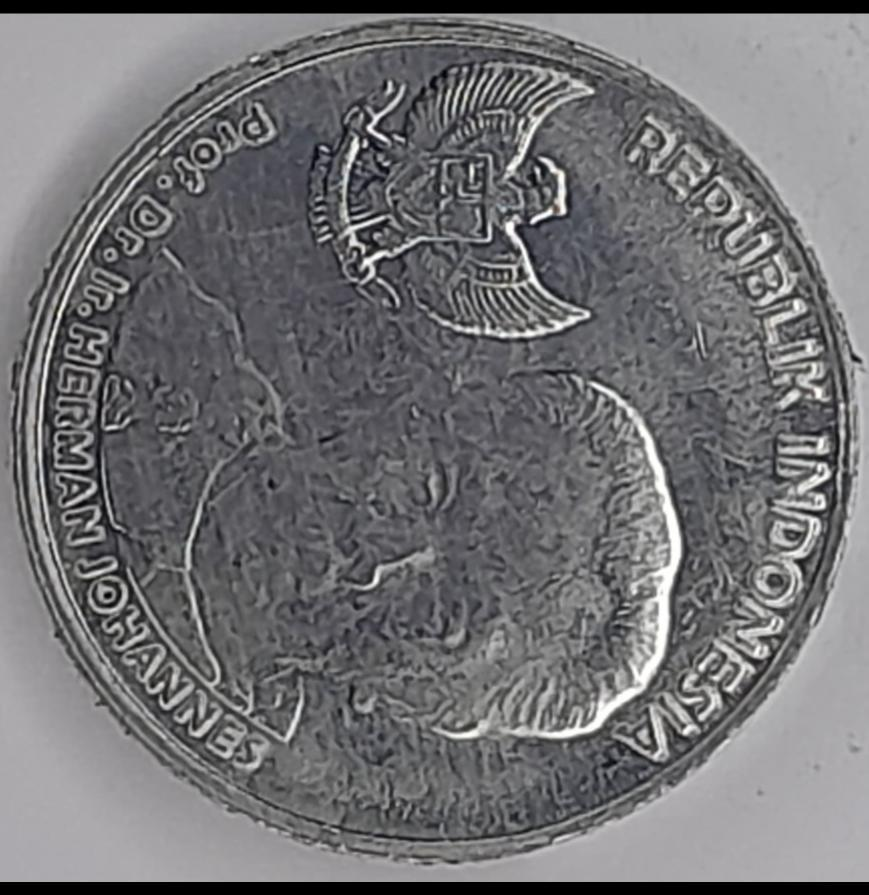coin_100_e2016: (3, 13, 867, 867)
